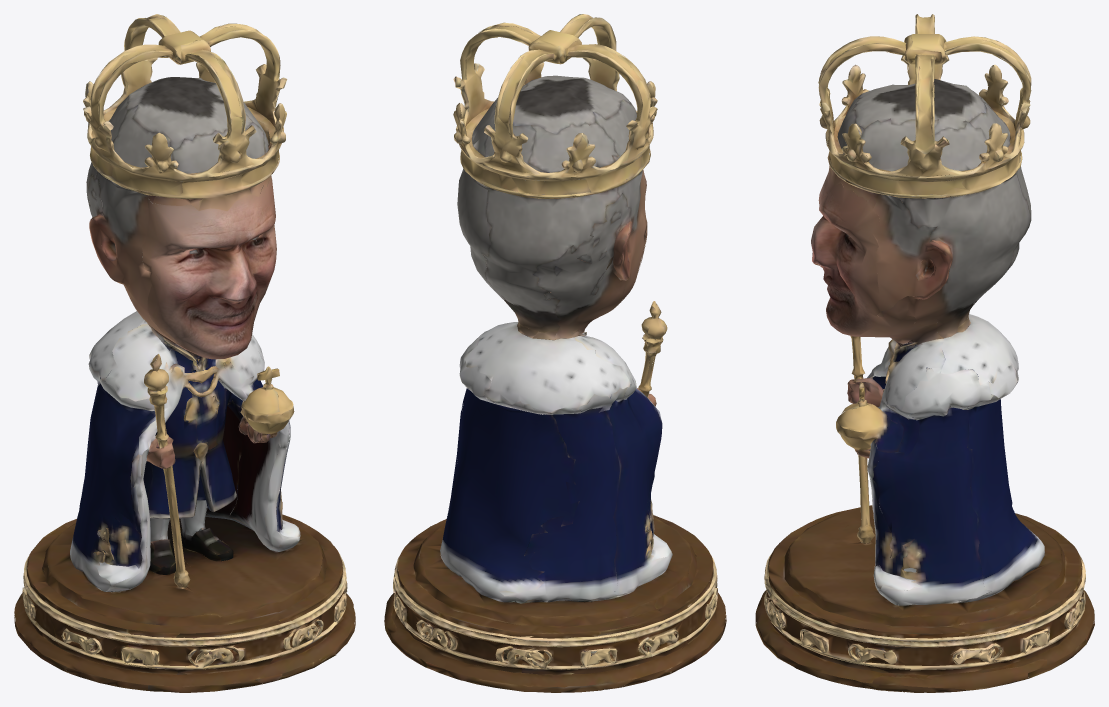
Rendered from king-riccardo-remastered-50k.glb.
The picture shows the model from 3 angles, left to right: view 1: azimuth 30°, elevation 25°; view 2: azimuth 150°, elevation 25°; view 3: azimuth 270°, elevation 25°; orthographic projection.
Parts seen in each view (by area): view 1: King_Riccardo_Remastered; view 2: King_Riccardo_Remastered; view 3: King_Riccardo_Remastered.
Boxes of the visible parts, <box> form: King_Riccardo_Remastered: <box>14,14,355,692</box>; King_Riccardo_Remastered: <box>384,14,726,692</box>; King_Riccardo_Remastered: <box>755,14,1094,692</box>.
Size of the model in its own units: 0.5289 by 1 by 0.5296.
1 material, 1 textured.
